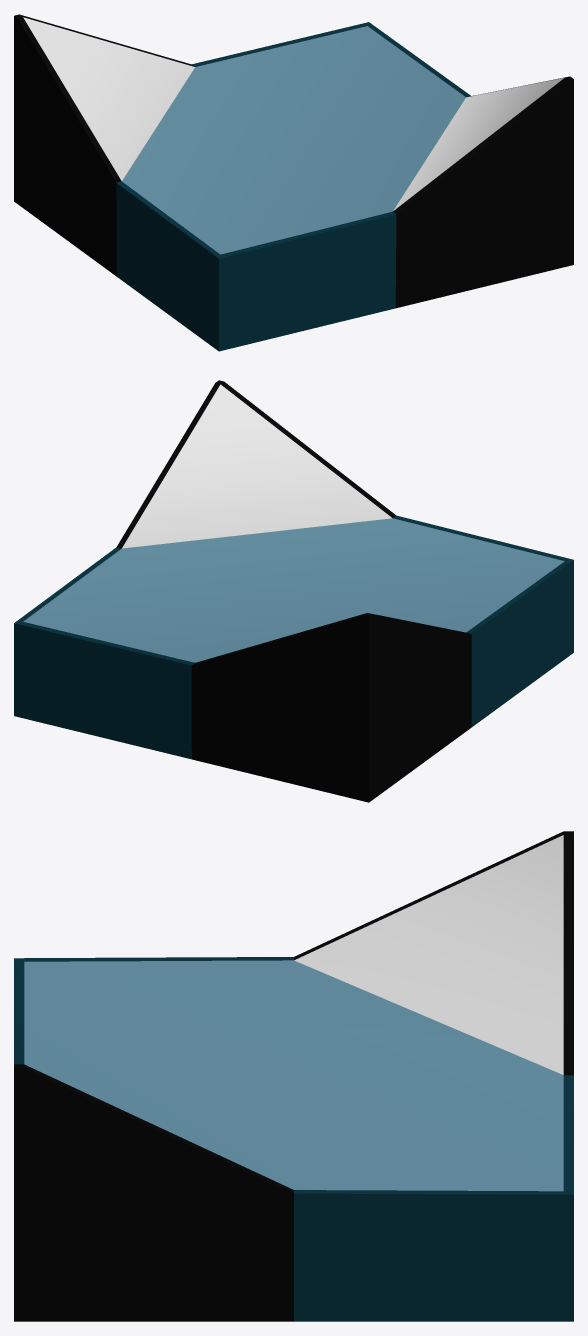
File: Agua_16.fbx
The picture shows the model from 3 angles, top to bottom: view 1: azimuth 30°, elevation 25°; view 2: azimuth 150°, elevation 25°; view 3: azimuth 270°, elevation 25°; orthographic projection. The views are drawn at different scales.
Parts seen in each view (by area): view 1: pCube7; view 2: pCube7; view 3: pCube7.
Part boxes in pixels (<box>): pCube7: <box>14,14,573,351</box>; pCube7: <box>14,380,573,802</box>; pCube7: <box>14,831,573,1321</box>.
Size of the model in its own units: 200 by 100 by 200.
